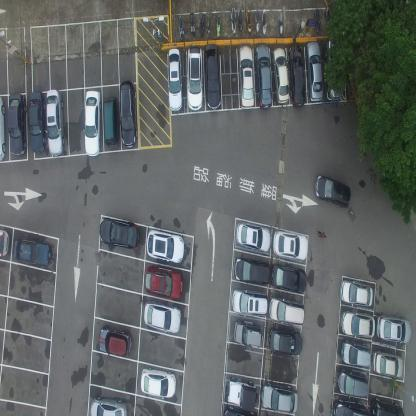car: (144, 264, 183, 300), (45, 88, 65, 157), (313, 173, 351, 209), (146, 228, 185, 262), (119, 80, 138, 149), (83, 90, 102, 158), (99, 218, 140, 249), (325, 35, 344, 101), (270, 263, 309, 295), (143, 301, 182, 333), (287, 43, 306, 108), (224, 375, 258, 411), (261, 381, 298, 414), (28, 90, 47, 154), (140, 366, 177, 398), (98, 324, 132, 358), (8, 92, 26, 156), (204, 43, 221, 110), (186, 45, 203, 111), (236, 221, 271, 253), (272, 229, 308, 260), (13, 238, 51, 267), (376, 314, 412, 344), (306, 42, 324, 102), (268, 297, 305, 326), (272, 46, 290, 105), (268, 327, 303, 357), (167, 47, 183, 112), (256, 43, 272, 108), (231, 288, 268, 316), (238, 45, 254, 109), (339, 278, 373, 307), (234, 257, 270, 284), (340, 310, 376, 337), (337, 368, 368, 398), (233, 318, 263, 348), (372, 349, 403, 378), (102, 96, 119, 148), (340, 340, 371, 367), (90, 396, 128, 415), (332, 398, 369, 416), (370, 396, 404, 415), (0, 94, 6, 161), (0, 227, 9, 258)
